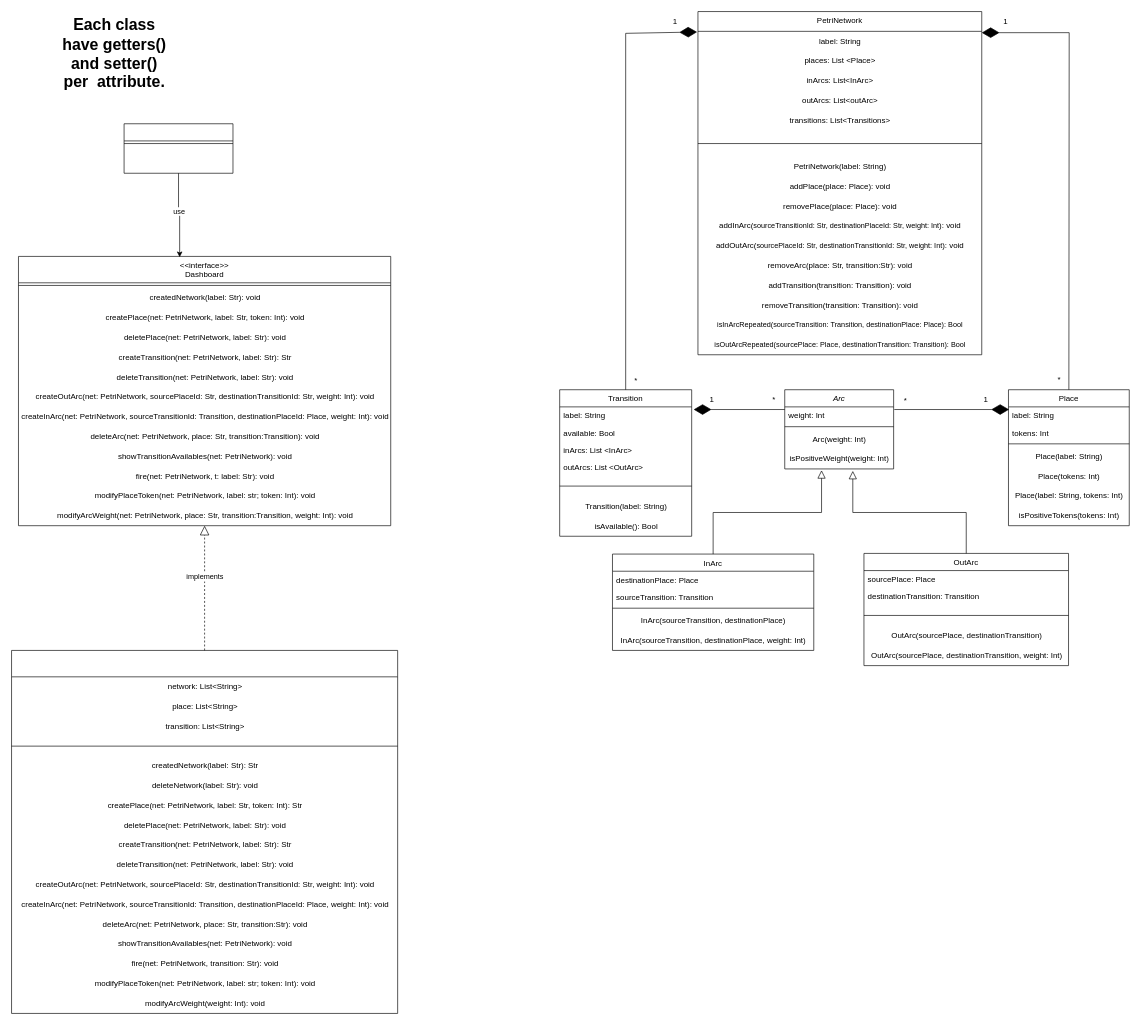
Image size: 1141x1025. Some labels were removed from this diagram. The shapes that lost their labels are listed below. From the top down, each one's box as (x1, y1, x2, y2) in pixels, then its label:
(123, 123, 233, 173): User
(11, 650, 398, 1013): NetworkDashboard
